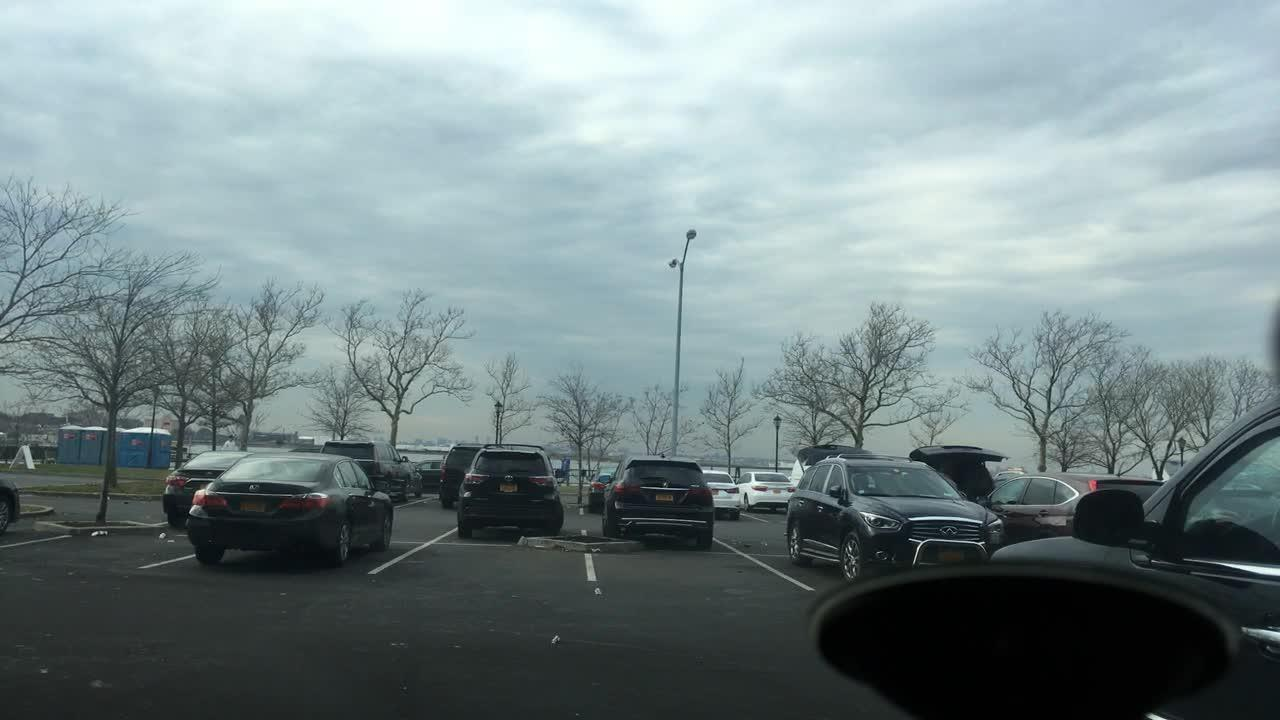Honda: (246, 483, 262, 493)
Infiniti: (936, 524, 962, 539)
